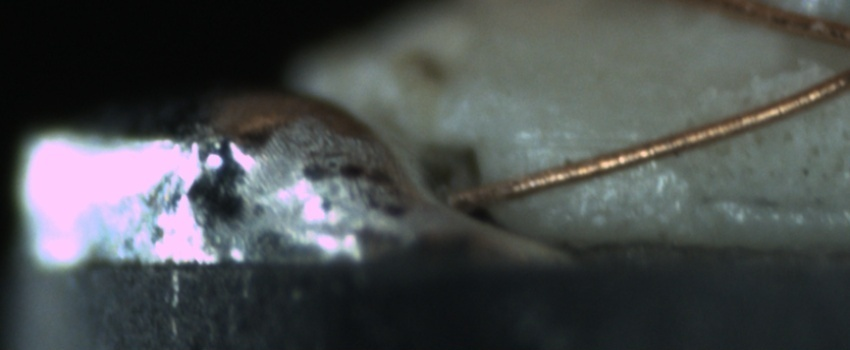DL: (517, 114, 649, 171)
